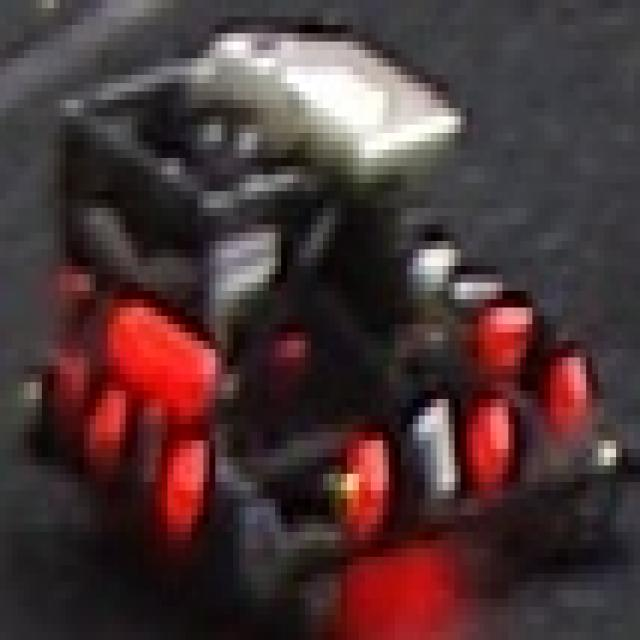R1: (347, 382, 520, 532), (84, 374, 209, 524)
